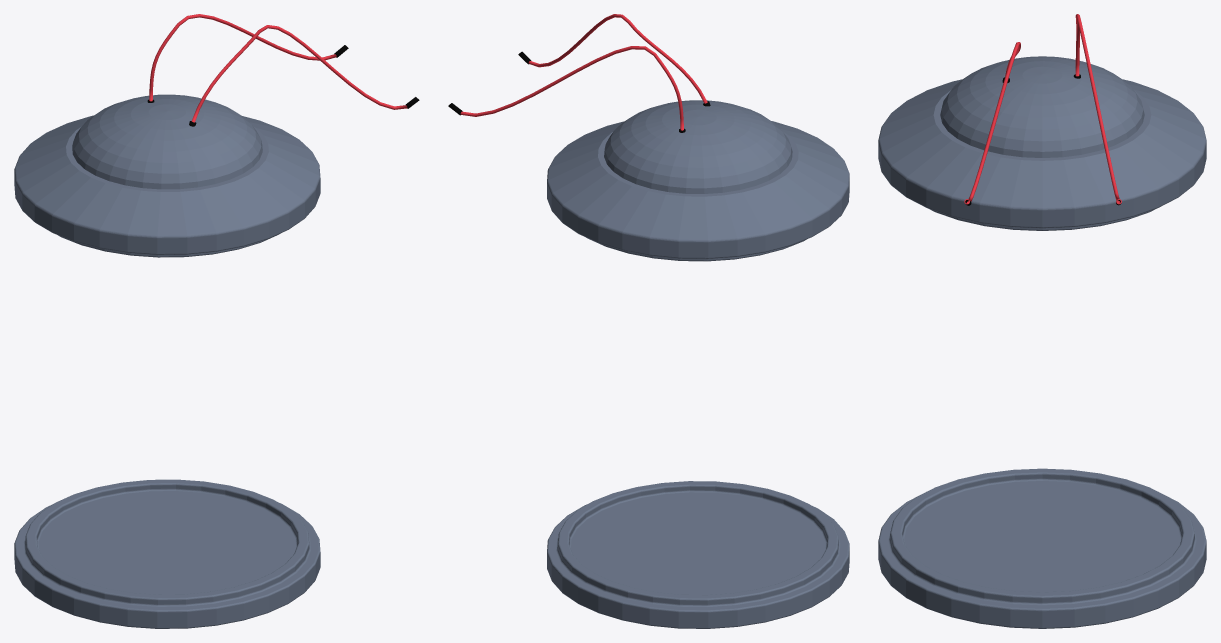
File: jar.fbx
3 renders of one model, left to right at view 1: azimuth 30°, elevation 25°; view 2: azimuth 150°, elevation 25°; view 3: azimuth 270°, elevation 25°, orthographic. The views are drawn at different scales.
Parts seen in each view (by area): view 1: Cylinder, Cylinder.001, Sphere, BezierCurve.001, BezierCurve; view 2: Cylinder, Cylinder.001, Sphere, BezierCurve, BezierCurve.001; view 3: Cylinder, Cylinder.001, Sphere, BezierCurve, BezierCurve.001.
Boxes of the visible parts, bbox=[...] form: Cylinder: bbox=[14, 479, 320, 628]; Cylinder.001: bbox=[14, 115, 320, 257]; Sphere: bbox=[72, 94, 262, 189]; BezierCurve.001: bbox=[189, 25, 419, 126]; BezierCurve: bbox=[147, 14, 348, 102]; Cylinder: bbox=[547, 481, 849, 628]; Cylinder.001: bbox=[547, 121, 849, 261]; Sphere: bbox=[604, 100, 792, 193]; BezierCurve: bbox=[448, 46, 685, 132]; BezierCurve.001: bbox=[518, 14, 710, 106]; Cylinder: bbox=[878, 468, 1206, 628]; Cylinder.001: bbox=[878, 79, 1206, 230]; Sphere: bbox=[940, 56, 1144, 157]; BezierCurve: bbox=[1073, 14, 1121, 205]; BezierCurve.001: bbox=[964, 42, 1020, 205].
Size of the model in its own units: 455 by 657 by 346.
